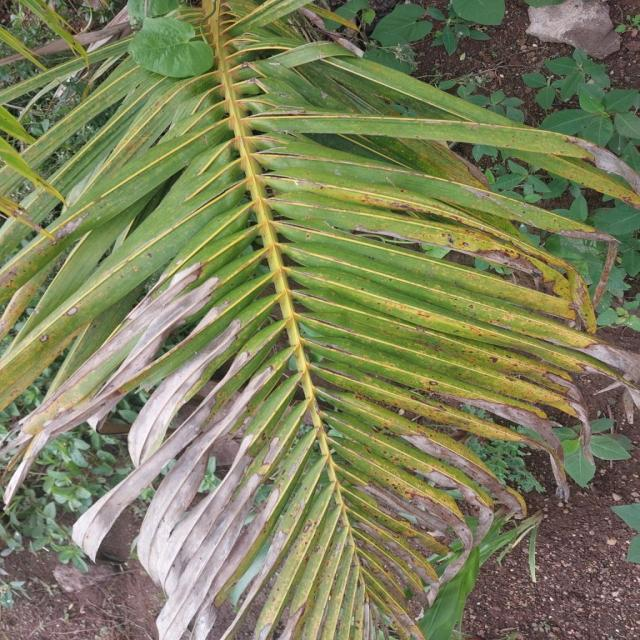gray leaf spot: (24, 229, 285, 640)
